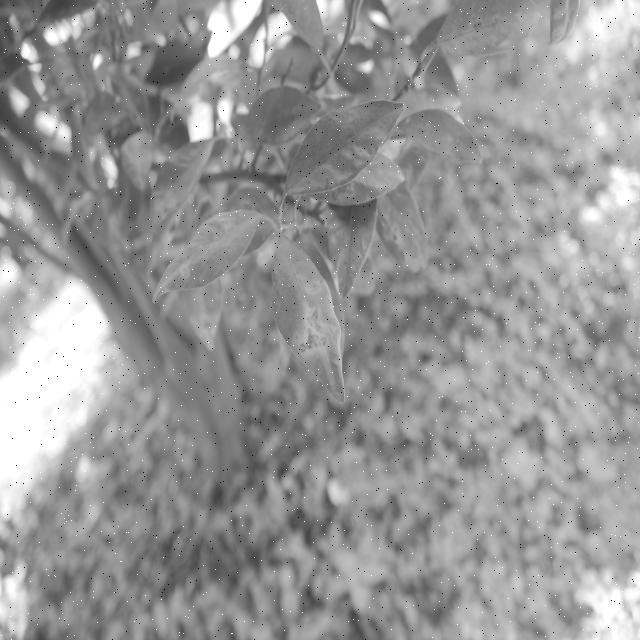canker: (286, 284, 340, 380), (173, 216, 239, 285), (444, 2, 523, 52), (383, 201, 429, 259), (144, 179, 191, 233), (325, 171, 366, 206), (342, 259, 374, 291), (197, 304, 216, 342)
